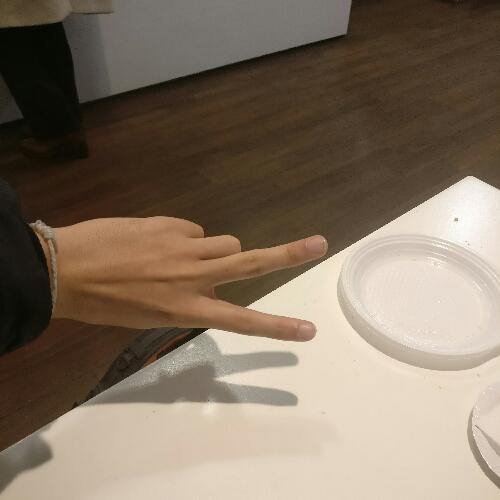scissors: (39, 200, 336, 364)
